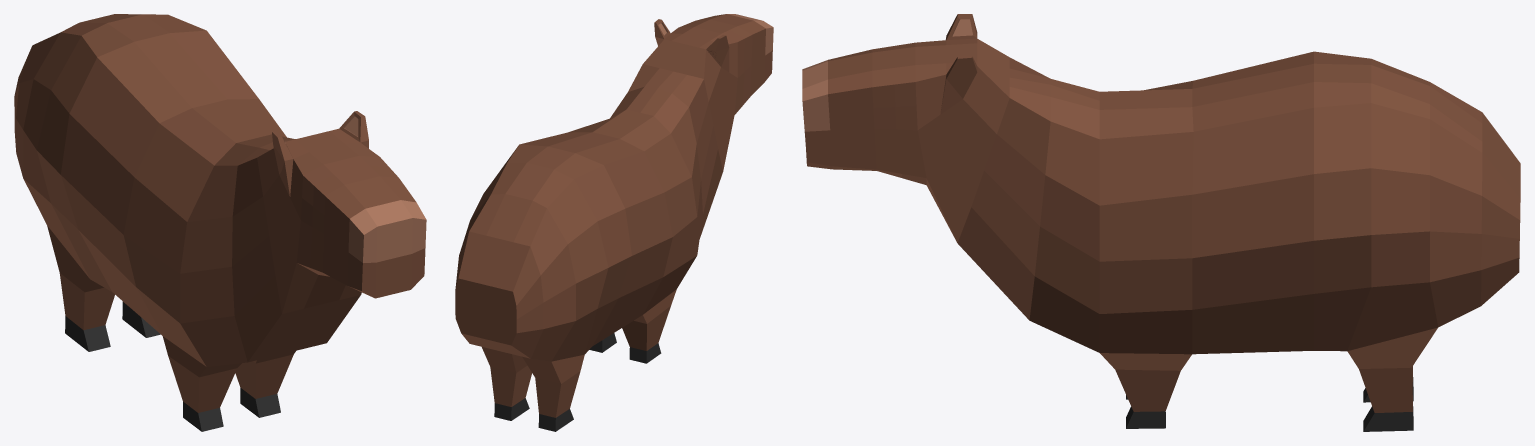
Rendered from capibara.fbx.
3 views of the same model, side by side, from view 1: azimuth 30°, elevation 25°; view 2: azimuth 150°, elevation 25°; view 3: azimuth 270°, elevation 25° (orthographic). The views are drawn at different scales.
Parts seen in each view (by area): view 1: Cube; view 2: Cube; view 3: Cube.
Boxes of the visible parts, <box> form: Cube: <box>14,14,426,431</box>; Cube: <box>455,14,773,431</box>; Cube: <box>802,14,1520,431</box>.
Bounding box in the file's own units: 148 × 277 × 480.
